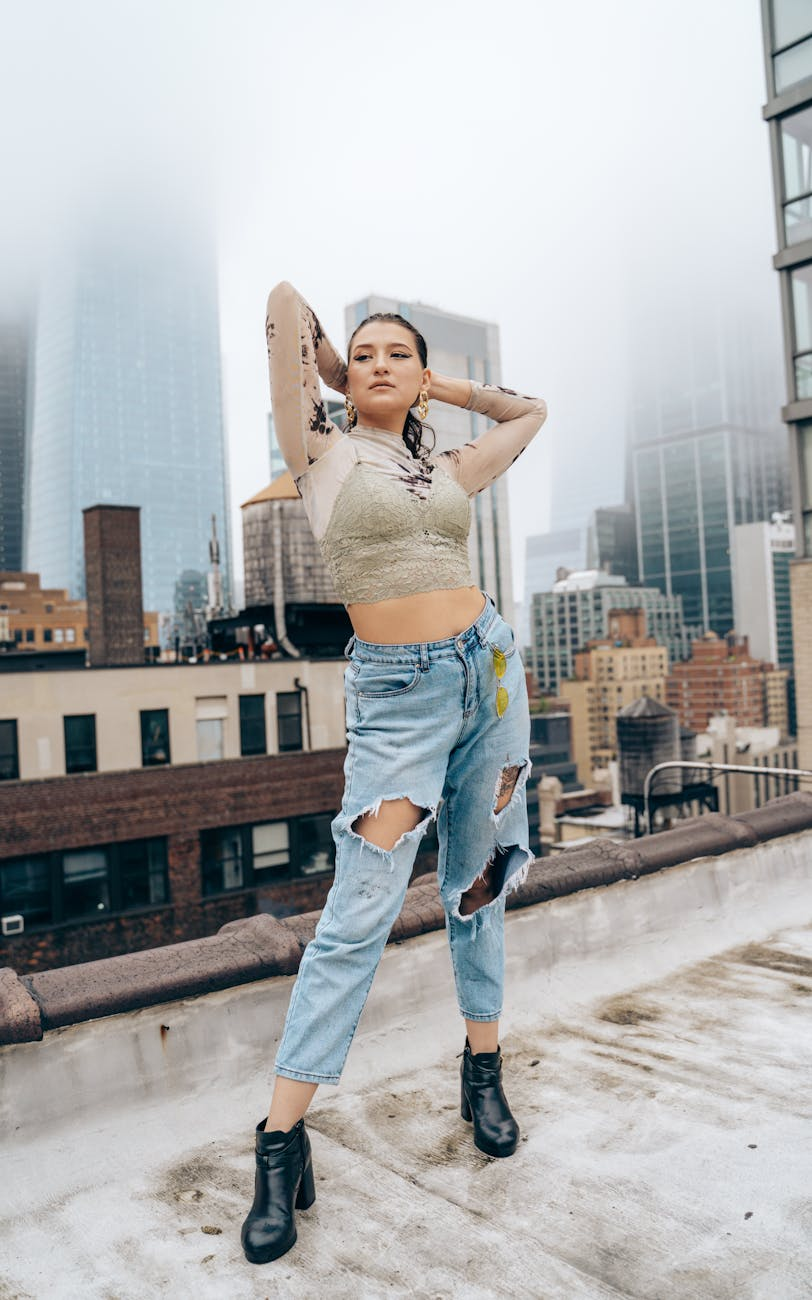crop_top: (285, 411, 501, 599)
ripped_jeans: (269, 623, 531, 1088)
